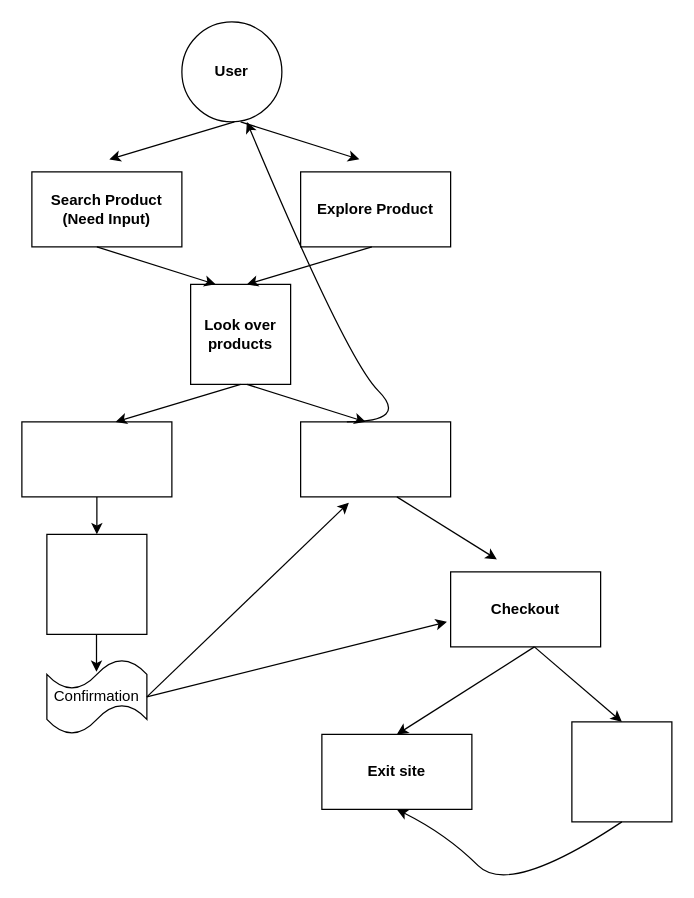
Some shapes in this 694 by 898 pixel diagram are drawn without their labels. Here are the shapes that lost their labels. From the top down, the centre of each, then its label:
At (96,459): "View specfic product".
At (375,459): "Continue shopping".
At (96,583): "Add to cart".
At (621,771): "1) view cart 2) input card info. 3) payment confirmation".
